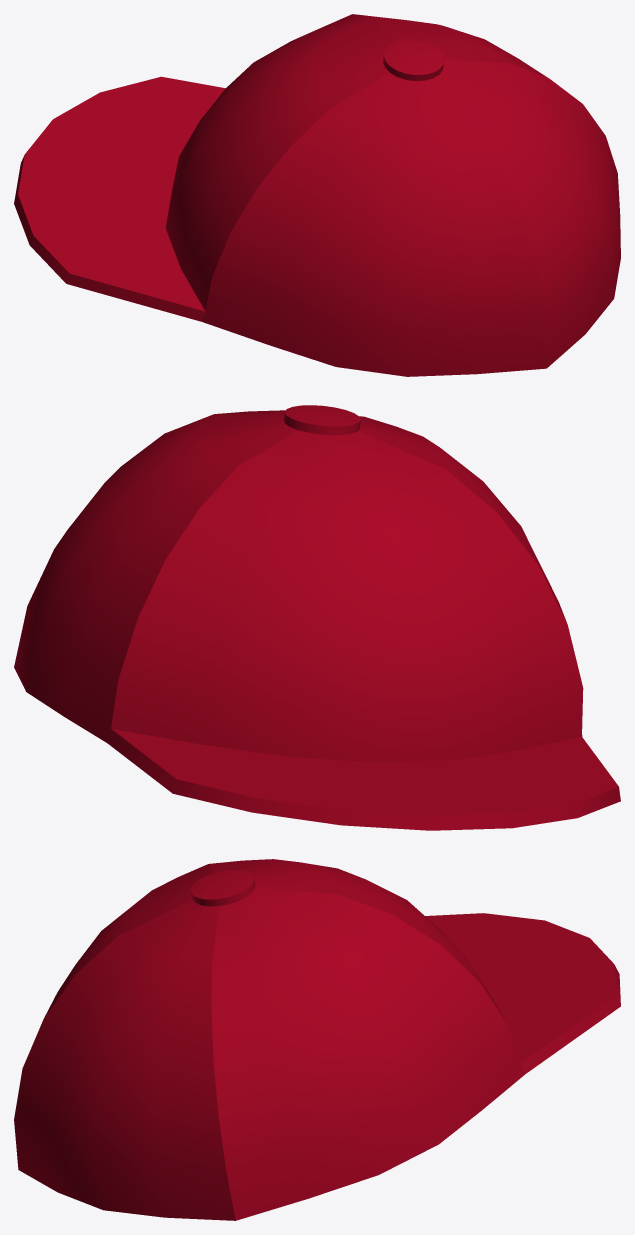
File: baseballcap_basic_red.glb
3 views of the same model, one above another, from view 1: azimuth 30°, elevation 25°; view 2: azimuth 150°, elevation 25°; view 3: azimuth 270°, elevation 25° (orthographic). The views are drawn at different scales.
Visible parts, largest first — view 1: 0.030; view 2: 0.030; view 3: 0.030.
Boxes of the visible parts, x1,y1,x2,y2 form: 0.030: [14, 14, 620, 376]; 0.030: [14, 405, 620, 830]; 0.030: [14, 859, 620, 1220].
Size of the model in its own units: 0.5039 by 0.2436 by 0.4932.
